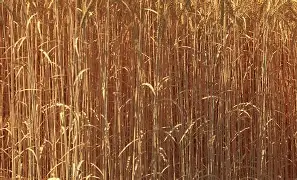crops: (0, 0, 291, 177), (227, 98, 292, 177), (39, 99, 97, 176), (159, 112, 202, 177), (0, 120, 39, 178)
